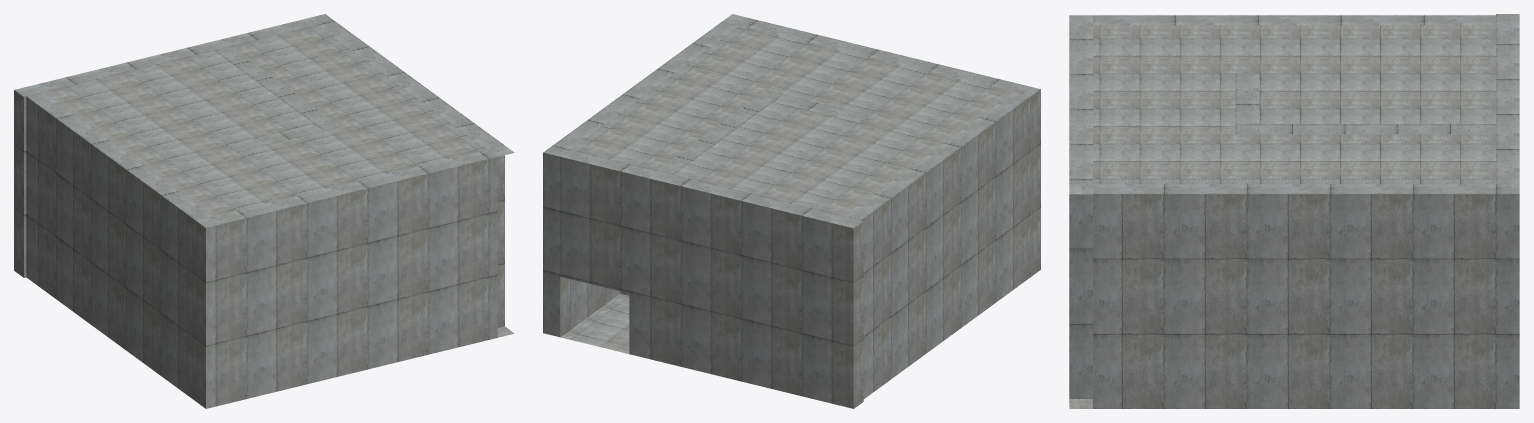
File: Level_37.fbx
3 views of the same model, side by side, from view 1: azimuth 30°, elevation 25°; view 2: azimuth 150°, elevation 25°; view 3: azimuth 270°, elevation 25° (orthographic). The views are drawn at different scales.
Parts seen in each view (by area): view 1: Wall.027; view 2: Wall.027; view 3: Wall.027.
Part boxes in pixels (x1,y1,x2,y2): Wall.027: [14, 14, 514, 408]; Wall.027: [543, 14, 1040, 408]; Wall.027: [1069, 14, 1519, 408].
Bounding box in the file's own units: 18 × 19 × 10.
